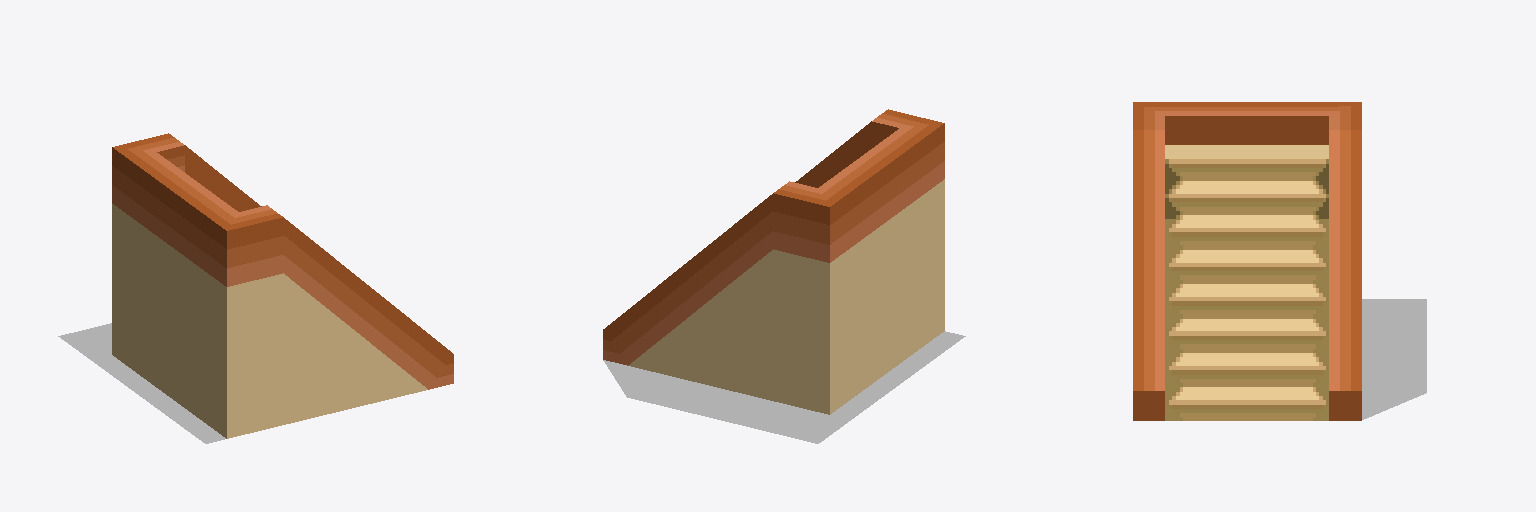
3 renders of one model, left to right at view 1: azimuth 30°, elevation 25°; view 2: azimuth 150°, elevation 25°; view 3: azimuth 270°, elevation 25°, orthographic.
Visible parts, largest first — view 1: polygon0, polygon1; view 2: polygon0, polygon1; view 3: polygon0, polygon1.
Part boxes in pixels (left/top/right/bottom): polygon0: left=112, top=133, right=453, bottom=438; polygon1: left=58, top=323, right=225, bottom=443; polygon0: left=603, top=109, right=944, bottom=414; polygon1: left=603, top=331, right=965, bottom=443; polygon0: left=1133, top=102, right=1361, bottom=420; polygon1: left=1362, top=299, right=1426, bottom=419.
Bounding box in the file's own units: 8.75 × 7 × 9.
2 materials, 1 textured.